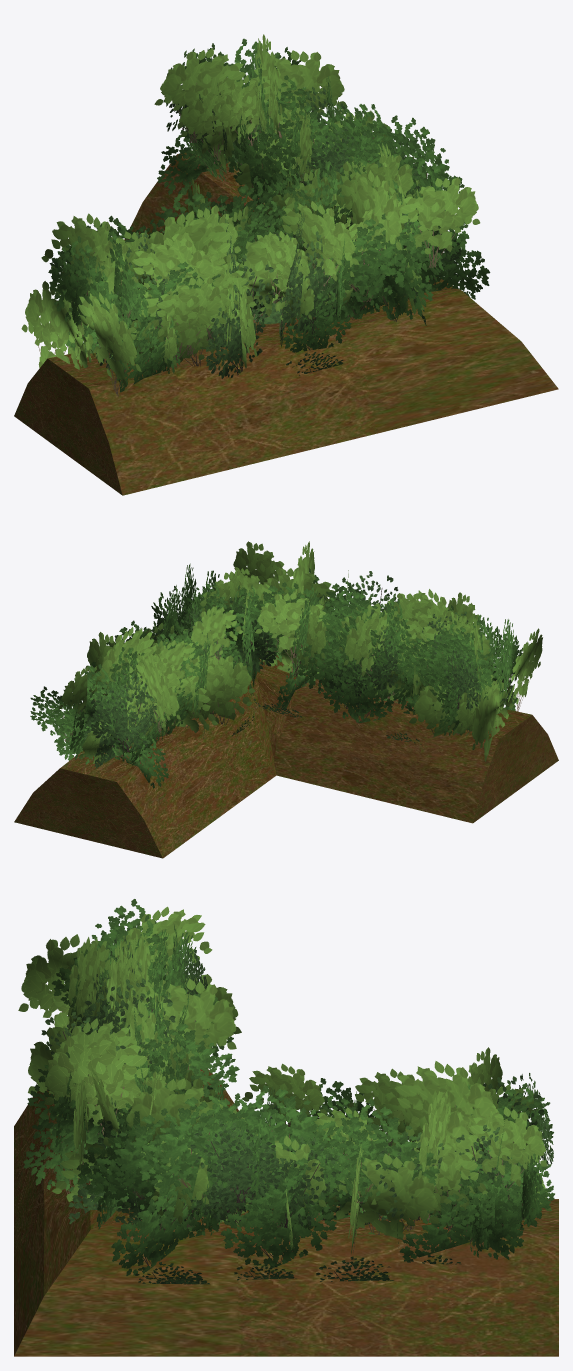
File: hack_bocage_horn_90.glb
The picture shows the model from 3 angles, top to bottom: view 1: azimuth 30°, elevation 25°; view 2: azimuth 150°, elevation 25°; view 3: azimuth 270°, elevation 25°; orthographic projection. The views are drawn at different scales.
Parts seen in each view (by area): view 1: hack_bocage_horn_90; view 2: hack_bocage_horn_90; view 3: hack_bocage_horn_90.
Part boxes in pixels (box(x1,y1,x2,y2)): hack_bocage_horn_90: box(14, 34, 558, 495); hack_bocage_horn_90: box(14, 541, 558, 858); hack_bocage_horn_90: box(14, 899, 558, 1356).
Size of the model in its own units: 5.1 by 2.6 by 5.1.
1 material, 1 textured.
